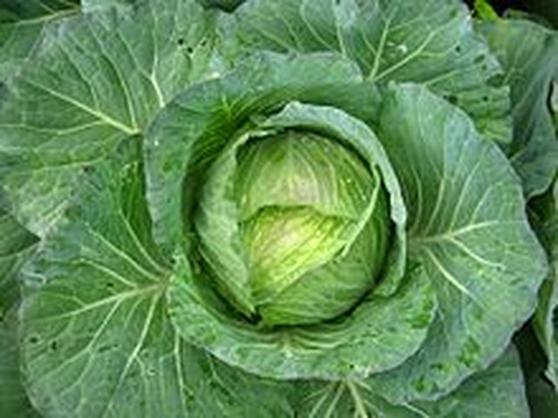cabbage: (167, 87, 440, 351)
